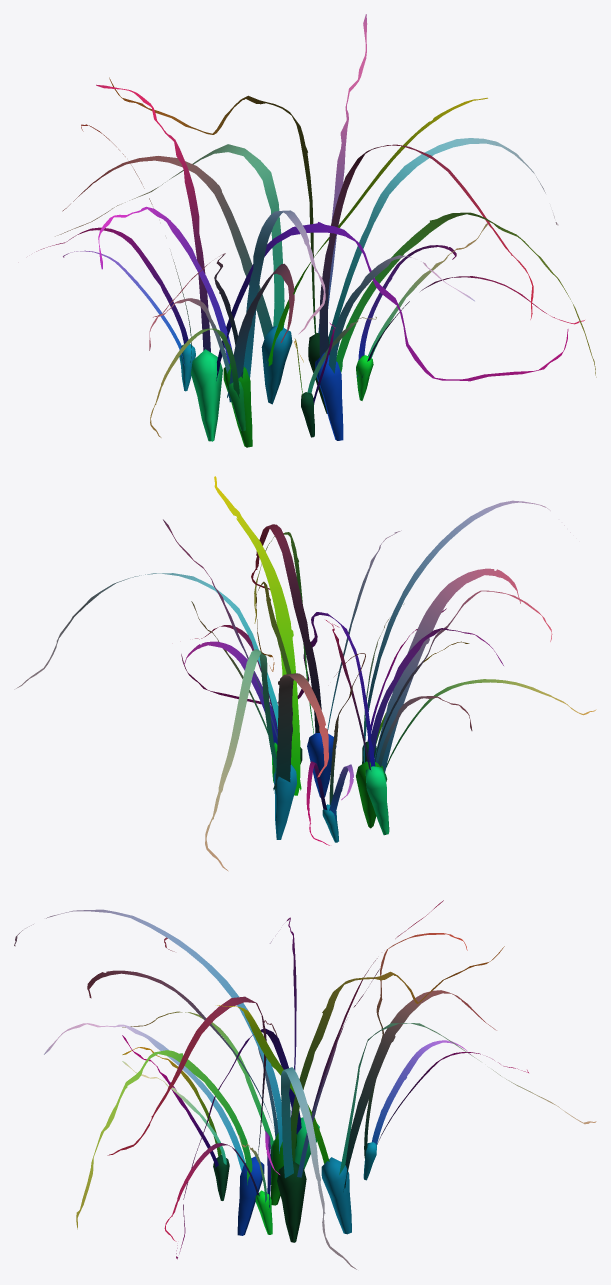
Rendered from Ribbon_Grass_tbdpec3r_Raw_tbdpec3r_VarF_LOD0.fbx.
3 renders of one model, top to bottom at view 1: azimuth 30°, elevation 25°; view 2: azimuth 150°, elevation 25°; view 3: azimuth 270°, elevation 25°, orthographic. The views are drawn at different scales.
Parts seen in each view (by area): view 1: _3b42_VarF_High; view 2: _3b42_VarF_High; view 3: _3b42_VarF_High.
Part boxes in pixels (left/top/right/bottom): _3b42_VarF_High: left=36, top=14, right=596, bottom=447; _3b42_VarF_High: left=14, top=476, right=596, bottom=871; _3b42_VarF_High: left=14, top=900, right=596, bottom=1269.
Bounding box in the file's own units: 31.07 × 19.58 × 32.79.
